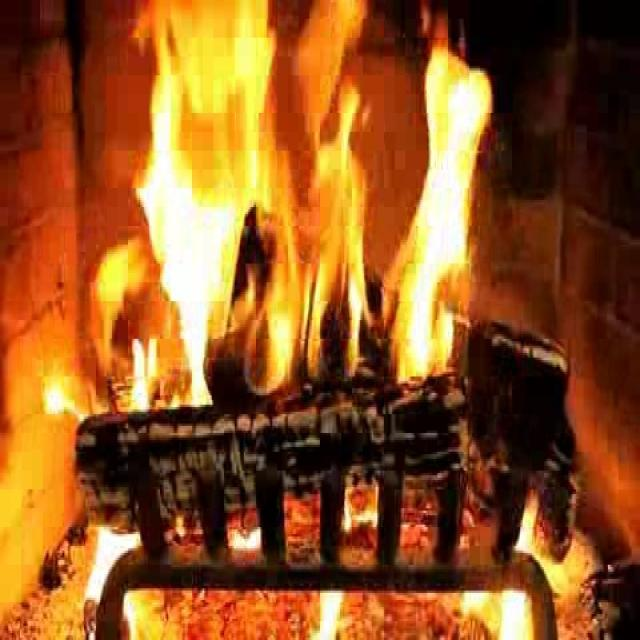Smoke: (134, 2, 481, 396)
